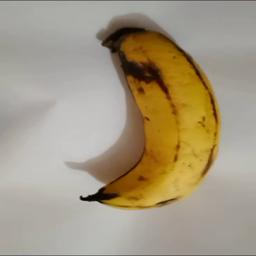Banana Semifresh: (77, 29, 222, 213)
